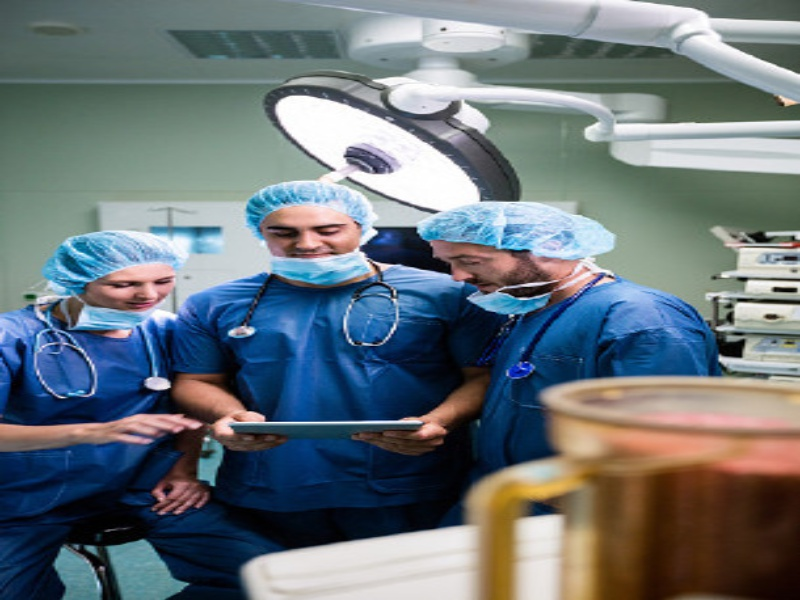mask: (427, 200, 607, 332), (57, 219, 186, 341), (248, 182, 379, 291)
